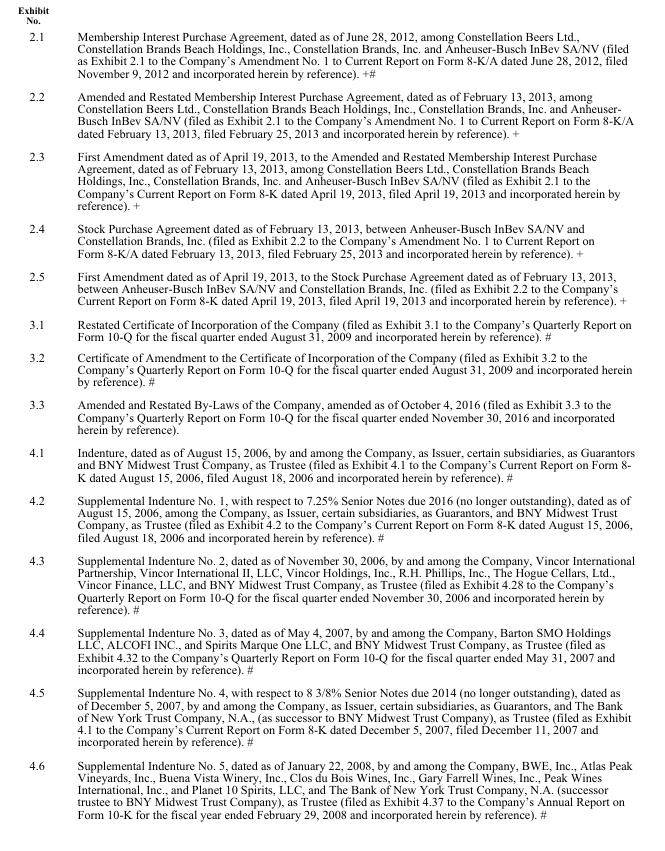table: (28, 28, 634, 820)
table column: (60, 28, 634, 820), (28, 28, 60, 820)
table row: (28, 144, 634, 216), (28, 548, 634, 620), (28, 680, 634, 752), (28, 752, 634, 820), (28, 84, 634, 144), (28, 488, 634, 548), (28, 620, 634, 680), (28, 28, 634, 84), (28, 216, 634, 264), (28, 392, 634, 440), (28, 440, 634, 488), (28, 264, 634, 311), (28, 346, 634, 392), (28, 311, 634, 346)
